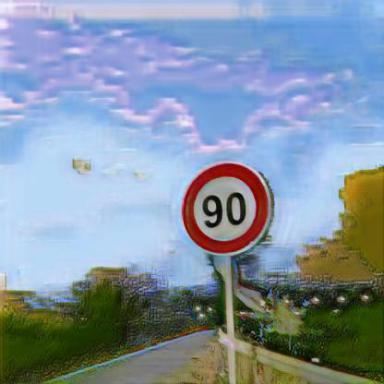Speed_limit_90: (185, 164, 269, 252)
